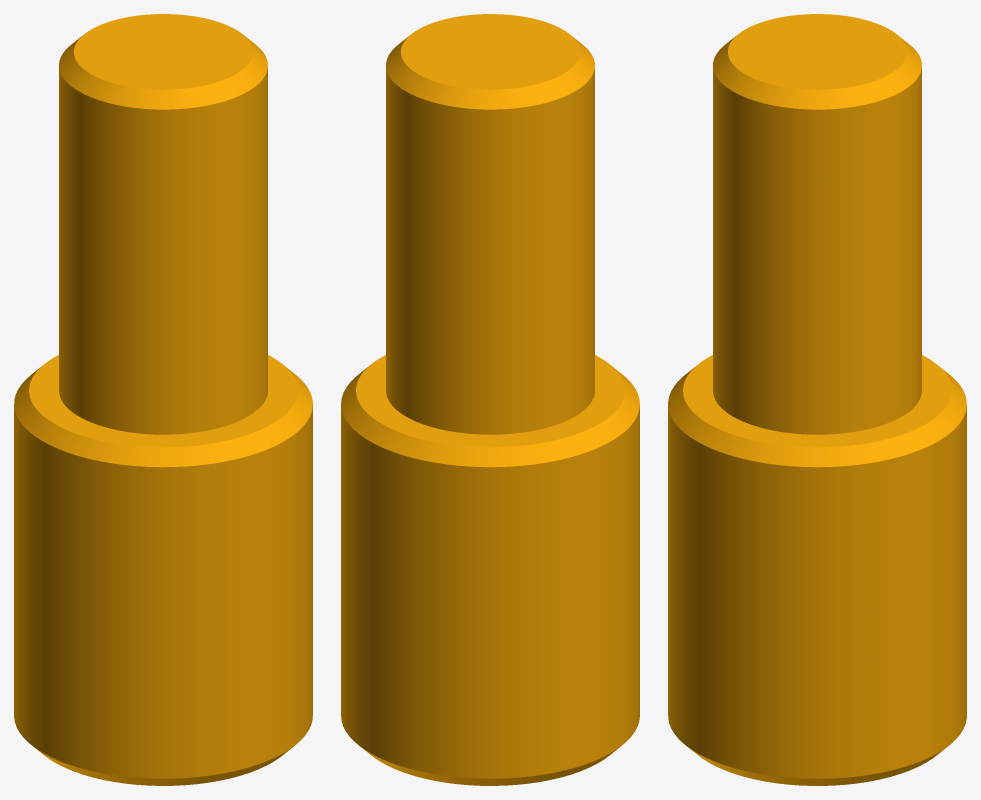
3 views of the same model, side by side, from view 1: azimuth 30°, elevation 25°; view 2: azimuth 150°, elevation 25°; view 3: azimuth 270°, elevation 25° (orthographic).
Parts seen in each view (by area): view 1: peca; view 2: peca; view 3: peca.
Boxes of the visible parts, x1=… form: peca: x1=14, y1=14, x2=312, y2=785; peca: x1=341, y1=14, x2=639, y2=785; peca: x1=668, y1=14, x2=966, y2=785.
Size of the model in its own units: 1.94 by 4.85 by 1.94.
